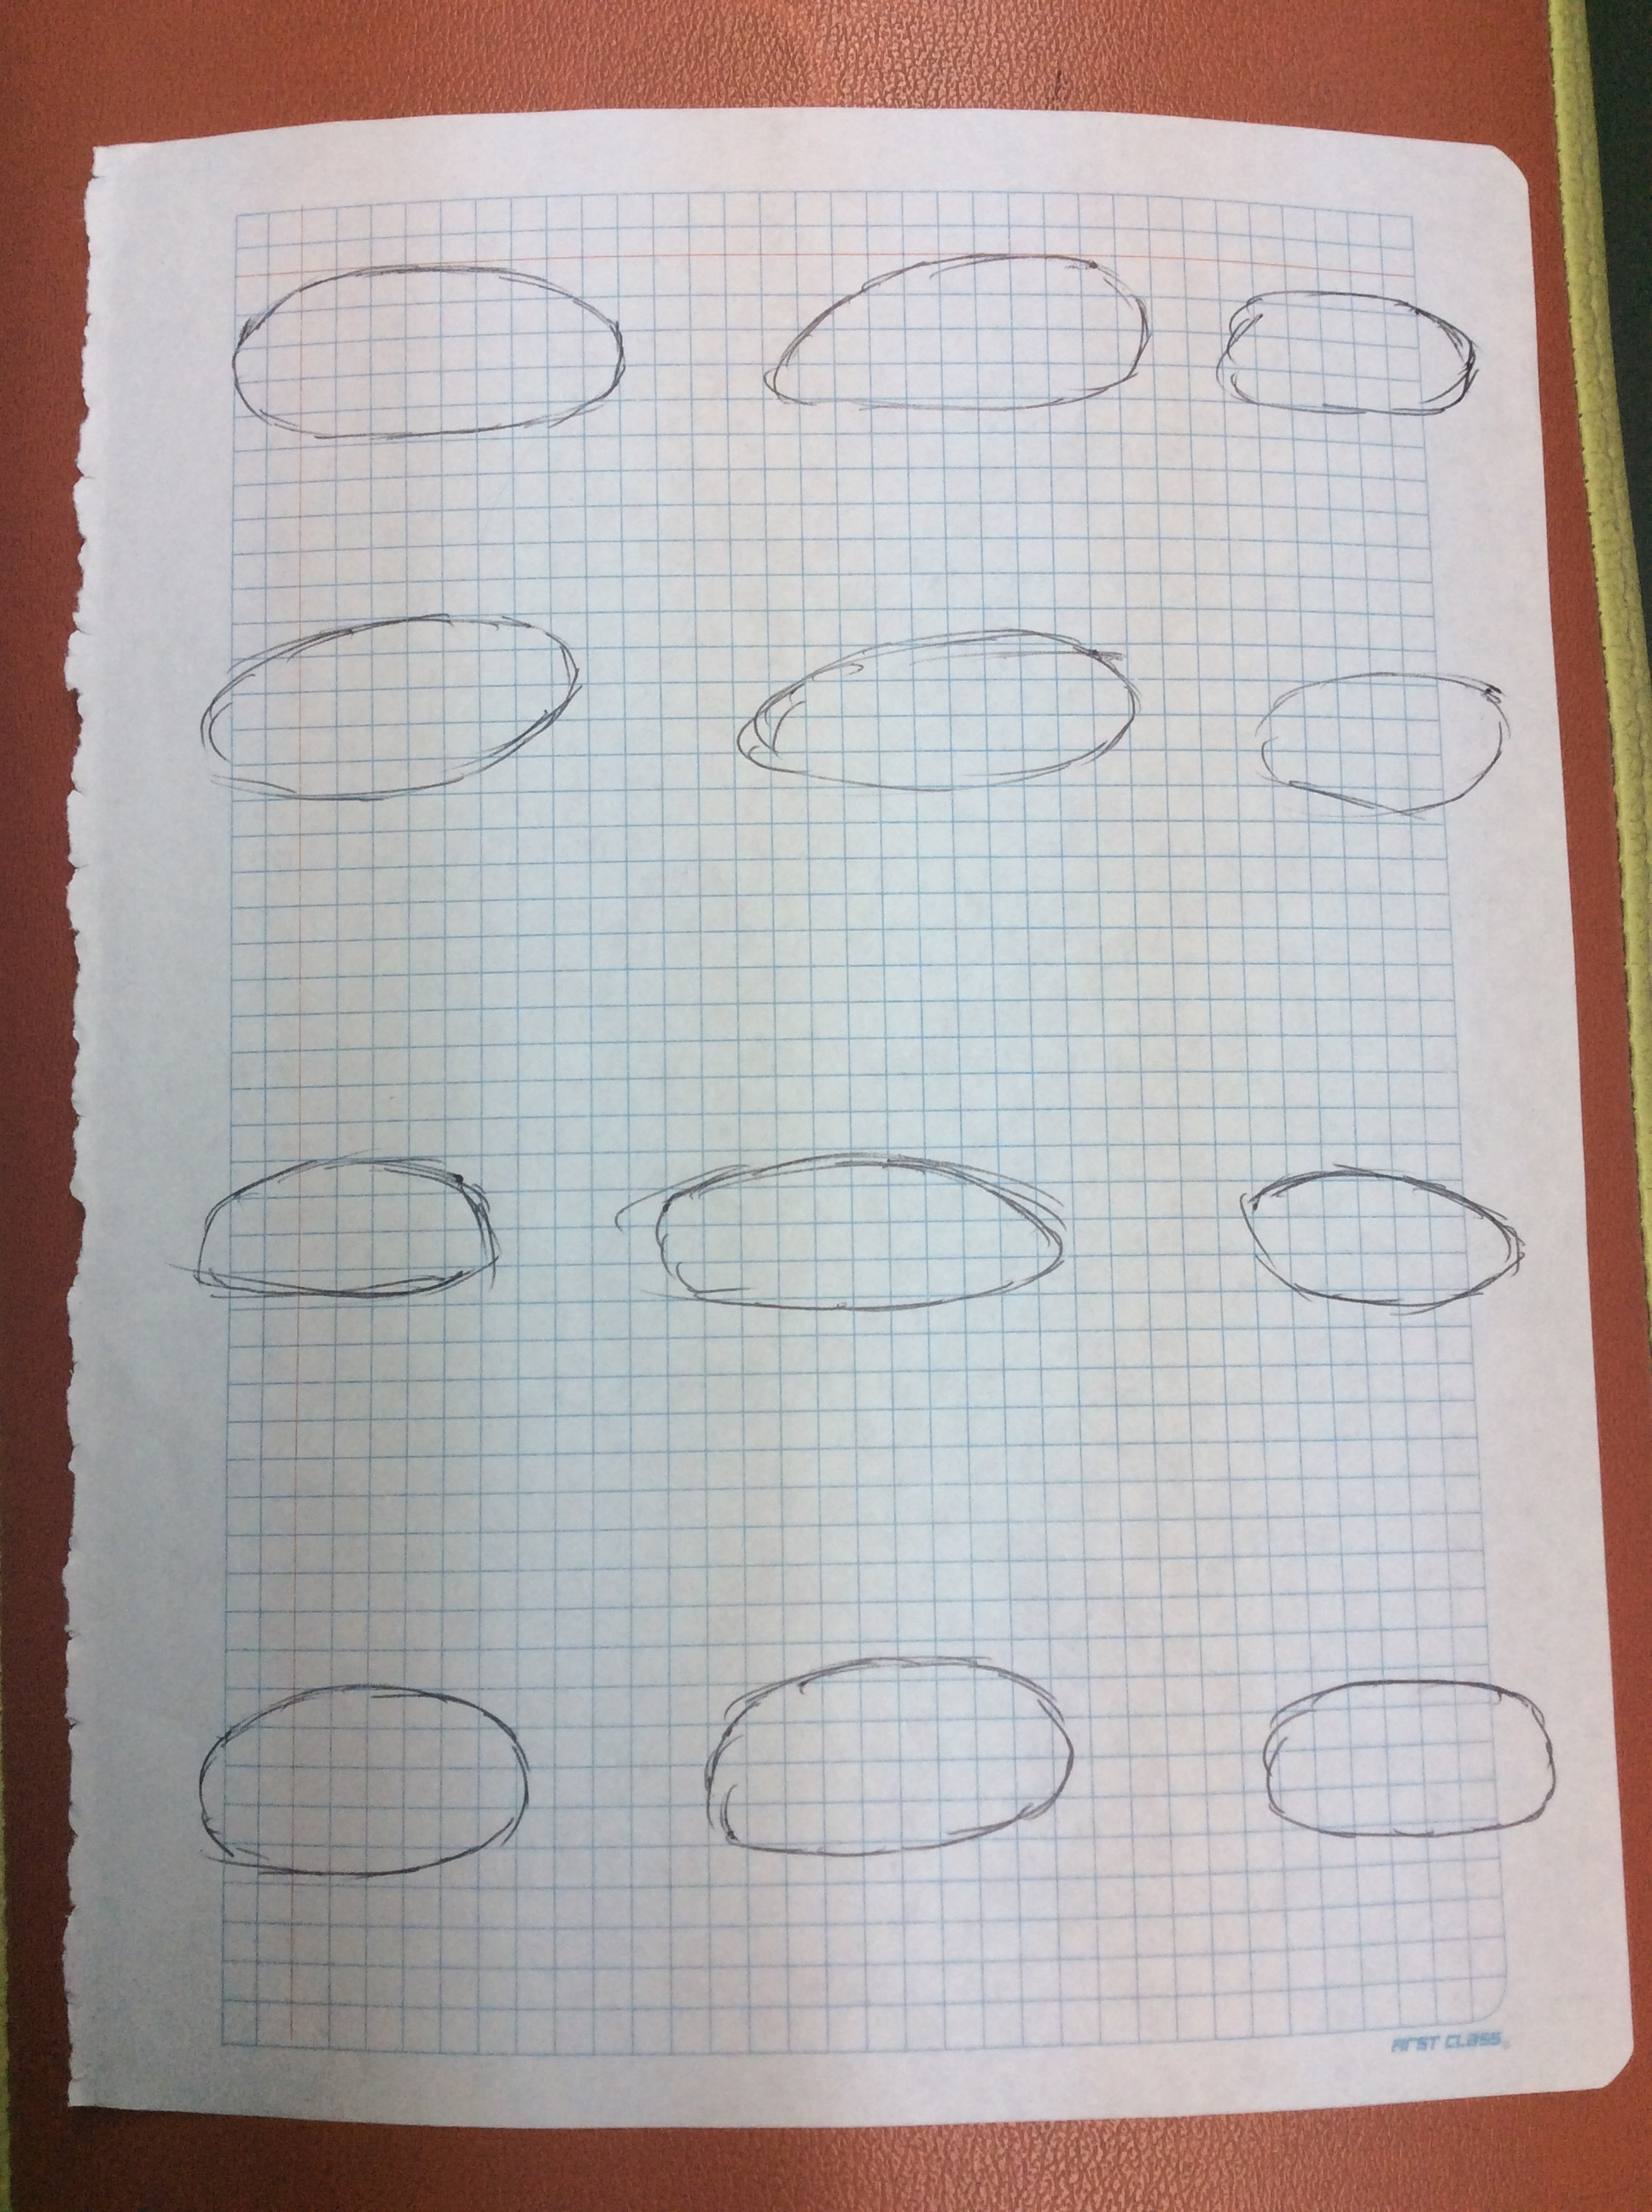start_end: (592, 1140, 1114, 1351), (673, 1629, 1093, 1881), (193, 250, 665, 474), (158, 1659, 548, 1926), (172, 597, 616, 826), (708, 607, 1166, 822), (729, 243, 1177, 451), (1203, 1119, 1534, 1376), (158, 1136, 528, 1341), (1248, 1641, 1583, 1867), (1189, 246, 1499, 461), (1234, 638, 1527, 850)
